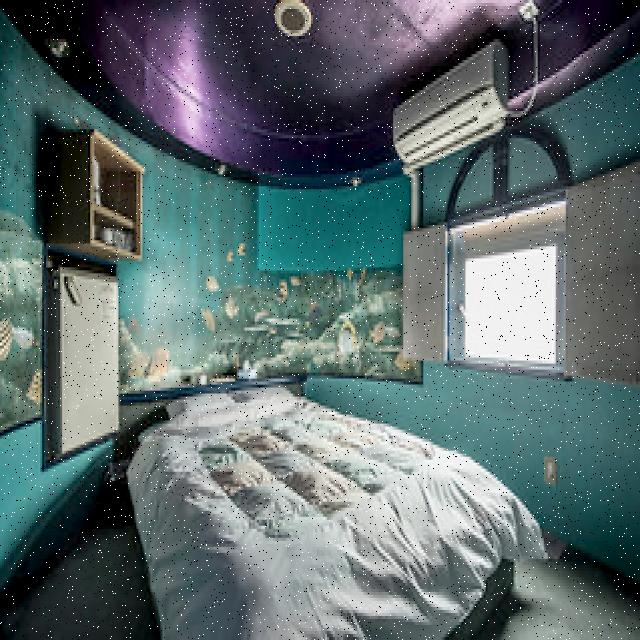bed: (128, 398, 535, 640)
